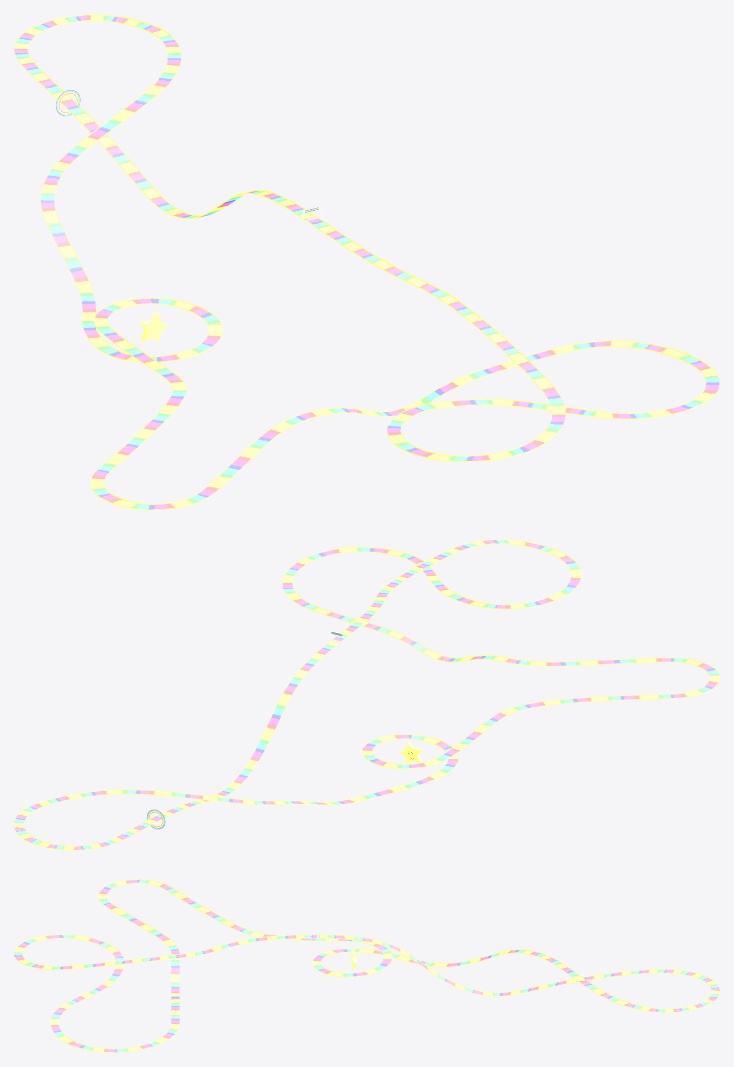
File: track.gltf
3 views of the same model, one above another, from view 1: azimuth 30°, elevation 25°; view 2: azimuth 150°, elevation 25°; view 3: azimuth 270°, elevation 25° (orthographic). The views are drawn at different scales.
Parts seen in each view (by area): view 1: Object_13, Object_17; view 2: Object_13, Object_17; view 3: Object_13, Object_17.
Boxes of the visible parts, x1,y1,x2,y2 form: Object_13: (14, 15, 719, 509); Object_17: (14, 14, 719, 510); Object_13: (14, 540, 719, 849); Object_17: (14, 539, 719, 850); Object_13: (14, 879, 719, 1052); Object_17: (14, 879, 719, 1052).
Size of the model in its own units: 283 by 57.15 by 478.
